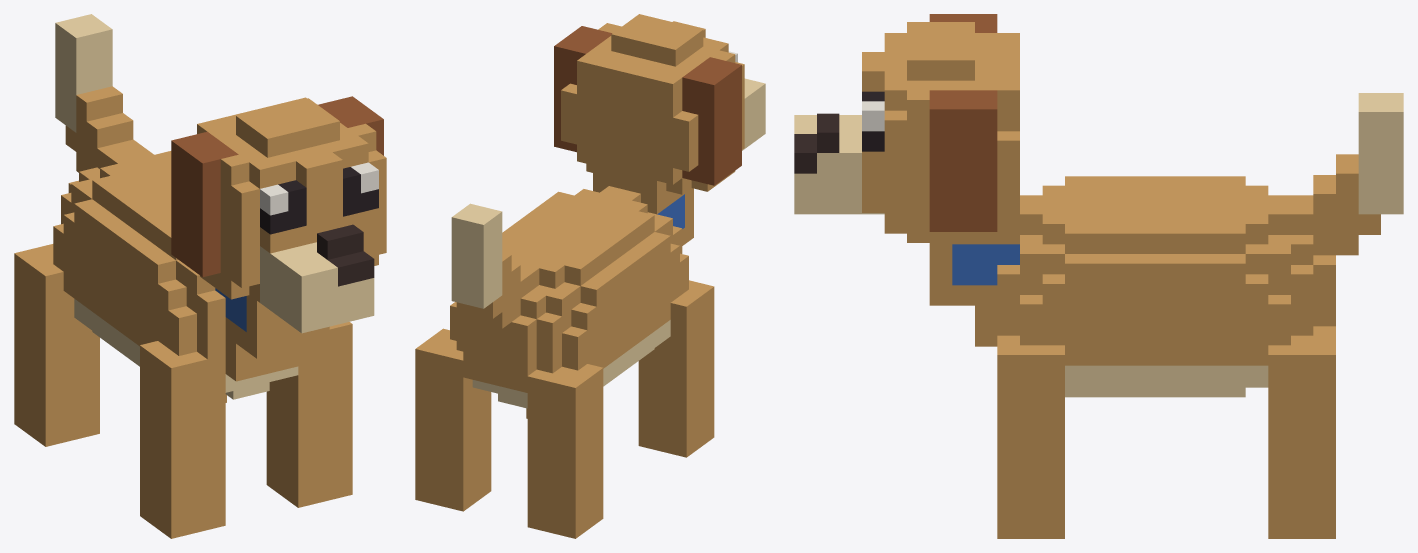
The model's file is dog.fbx.
The picture shows the model from 3 angles, left to right: view 1: azimuth 30°, elevation 25°; view 2: azimuth 150°, elevation 25°; view 3: azimuth 270°, elevation 25°; orthographic projection. The views are drawn at different scales.
Parts seen in each view (by area): view 1: dog; view 2: dog; view 3: dog.
Boxes of the visible parts, bbox=[...] form: dog: bbox=[14, 14, 386, 538]; dog: bbox=[415, 14, 765, 538]; dog: bbox=[794, 14, 1403, 538].
Bounding box in the file's own units: 1 × 2.2 × 2.7.
1 material, 1 textured.
